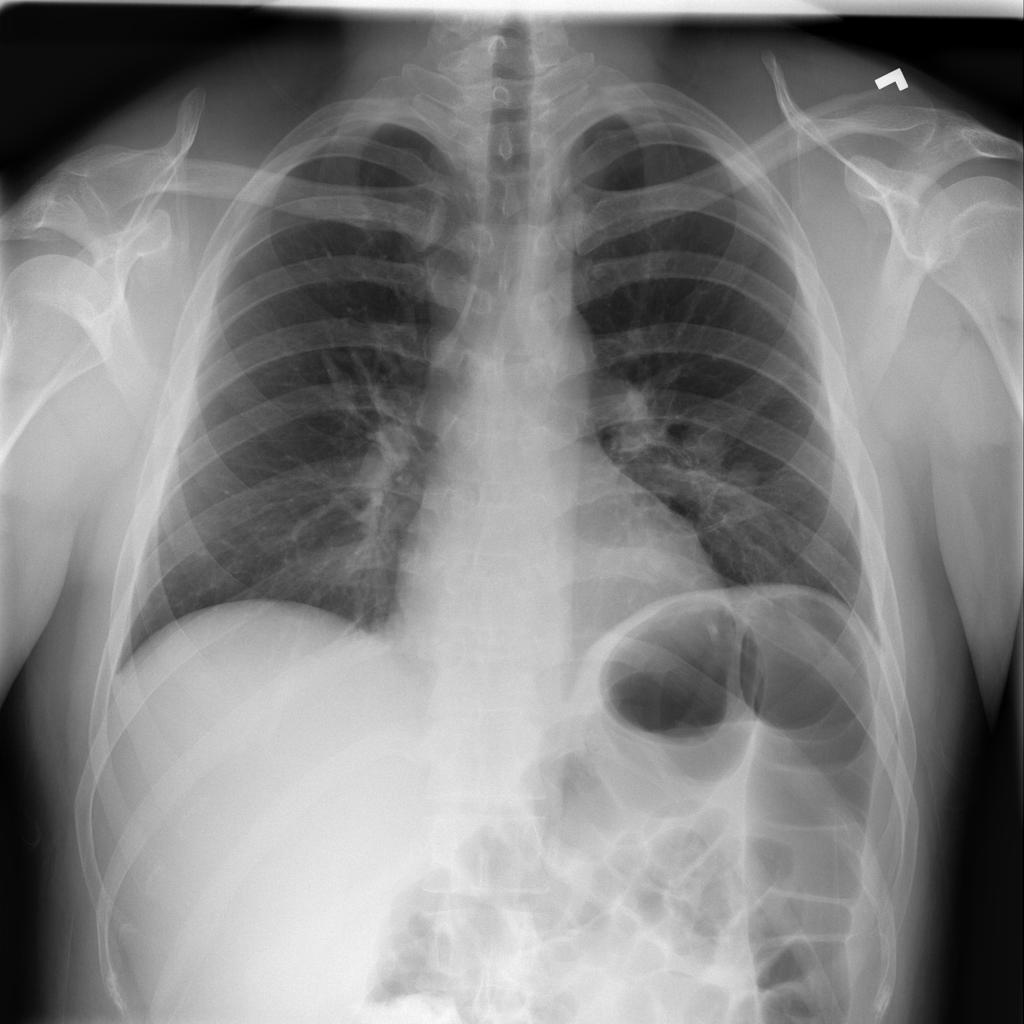nodule: (707, 442, 782, 510)
